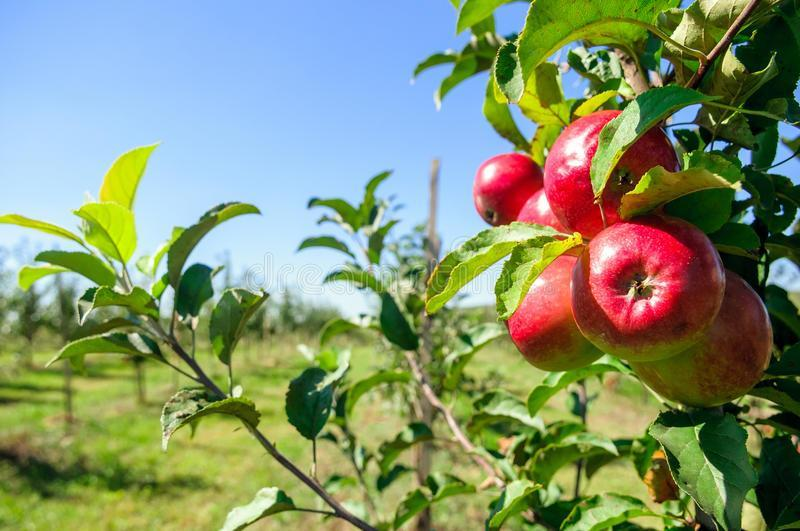apple: (501, 217, 765, 414), (577, 218, 732, 366), (624, 263, 774, 409), (544, 110, 680, 243), (503, 248, 608, 374), (472, 151, 551, 228)
